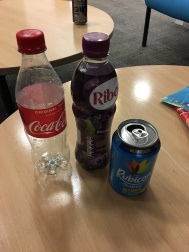bottle_purple: (66, 25, 119, 179)
bottle_red: (9, 24, 75, 181)
can_blue: (111, 111, 162, 217)
